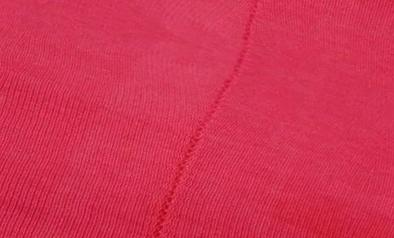slub: (151, 0, 262, 237)
